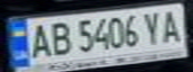0: (109, 14, 127, 50)
4: (90, 15, 112, 51)
5: (72, 16, 96, 53)
6: (121, 11, 145, 47)
A: (24, 20, 54, 60), (157, 7, 187, 44)
B: (45, 19, 72, 57)
Y: (139, 8, 166, 46)
